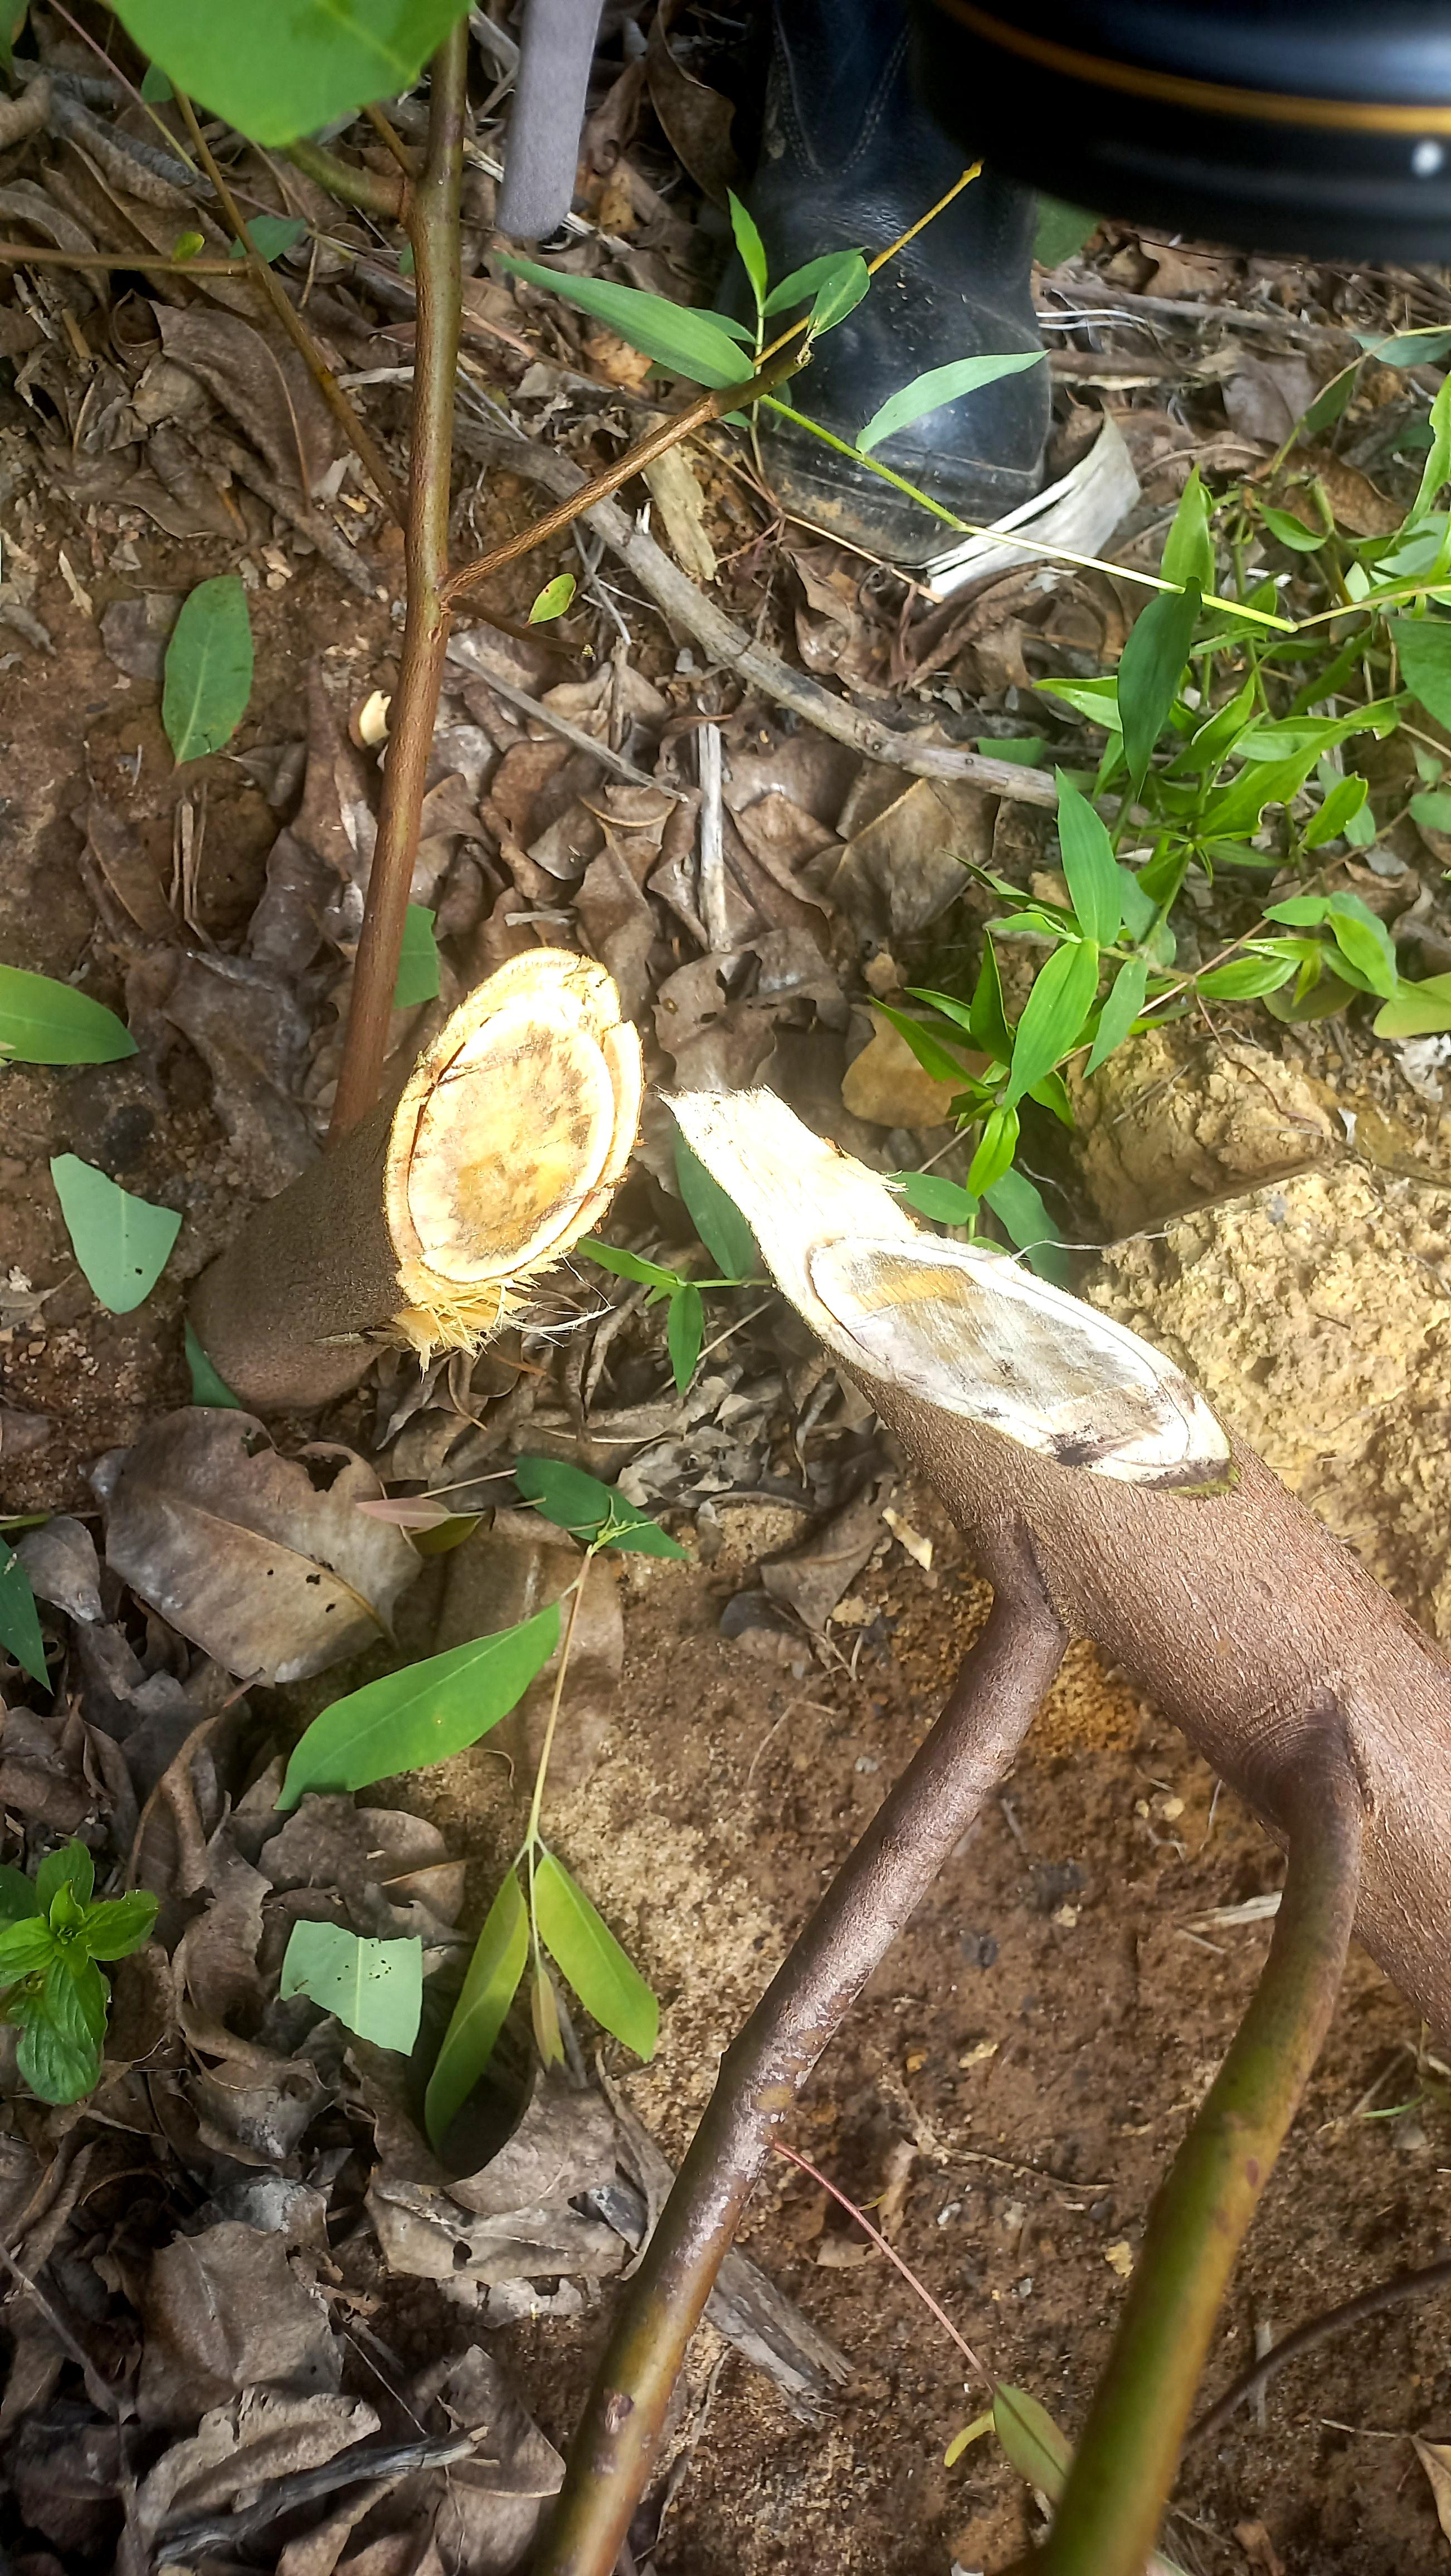Ralstonia: (830, 1247, 1164, 1458), (442, 1135, 537, 1251), (508, 1012, 587, 1123)
